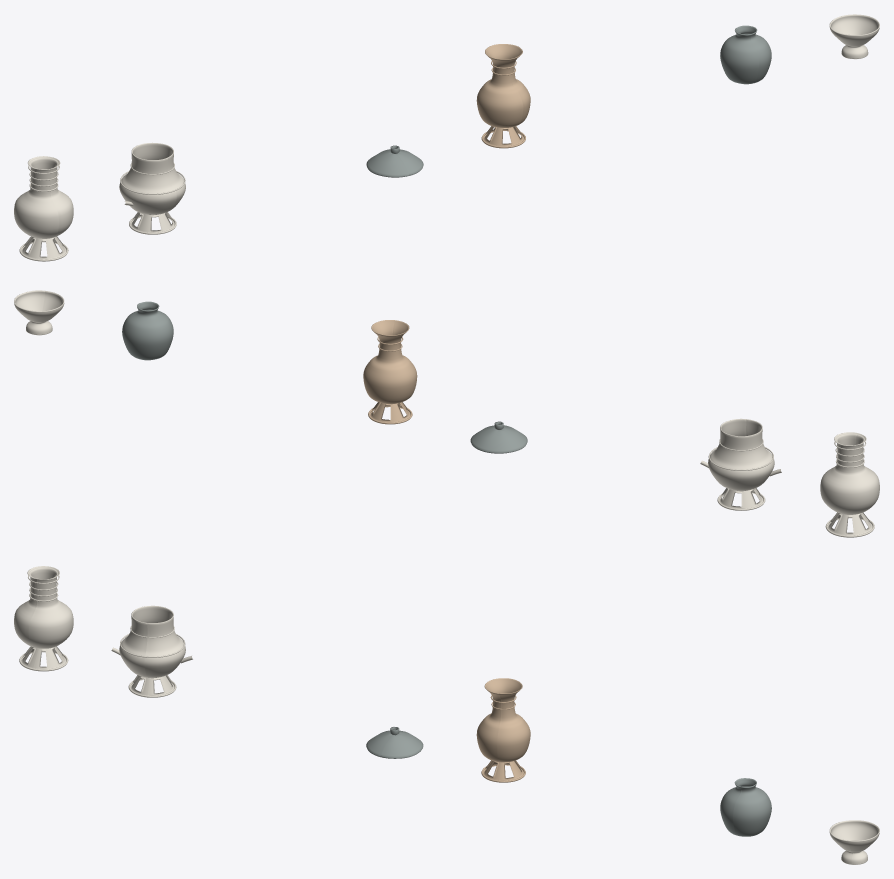
Rendered from gallery-collection-v3.glb.
The picture shows the model from 3 angles, top to bottom: view 1: azimuth 30°, elevation 25°; view 2: azimuth 150°, elevation 25°; view 3: azimuth 330°, elevation 25°; orthographic projection.
Parts seen in each view (by area): view 1: Hand thrown body with inner wall (×5), Openwork pedestal with wall thickness (×3), Lid; view 2: Hand thrown body with inner wall (×5), Openwork pedestal with wall thickness (×3), Lid; view 3: Hand thrown body with inner wall (×5), Openwork pedestal with wall thickness (×2), Lid.
Boxes of the visible parts, x1=… form: Hand thrown body with inner wall (×5): x1=14, y1=14, x2=879, y2=238; Openwork pedestal with wall thickness (×3): x1=21, y1=126, x2=523, y2=259; Lid: x1=366, y1=149, x2=423, y2=177; Hand thrown body with inner wall (×5): x1=14, y1=290, x2=879, y2=514; Openwork pedestal with wall thickness (×3): x1=370, y1=402, x2=872, y2=535; Lid: x1=470, y1=425, x2=527, y2=453; Hand thrown body with inner wall (×5): x1=14, y1=566, x2=879, y2=864; Openwork pedestal with wall thickness (×2): x1=21, y1=646, x2=174, y2=695; Lid: x1=366, y1=730, x2=423, y2=758.
Size of the model in its own units: 7.34 by 0.7252 by 0.4926.
